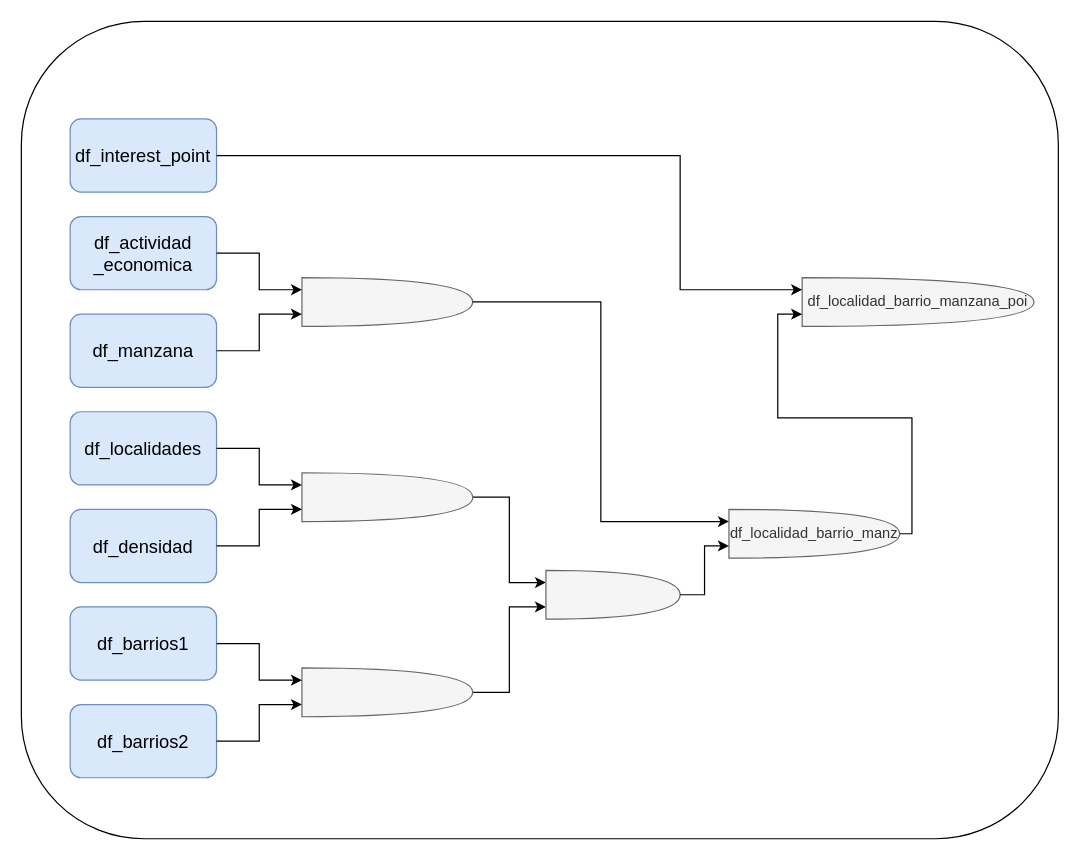
This 1080x860 diagram has some shape labels left out. The box of each missing label's shape, as (x1, y1, x2, y2) in pixels:
df_barrios: (301, 667, 473, 717)
df_densidad_localidad: (301, 472, 473, 522)
df_localidad_barro: (545, 569, 680, 619)
df_manzana1: (301, 276, 473, 326)
